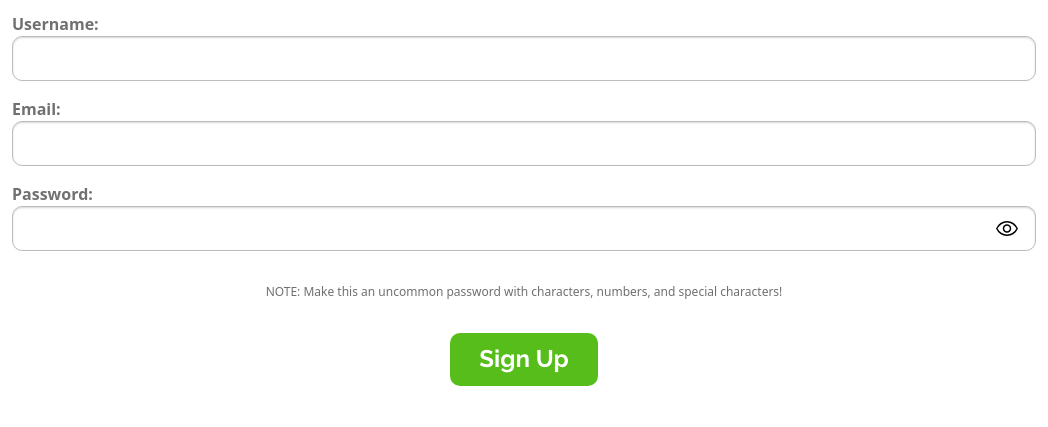
shows a warning for invalid password (too short) after user clicks away
The image size is (1048, 427).
Click the password field named "password" at (512, 228), box [29, 215, 995, 242]
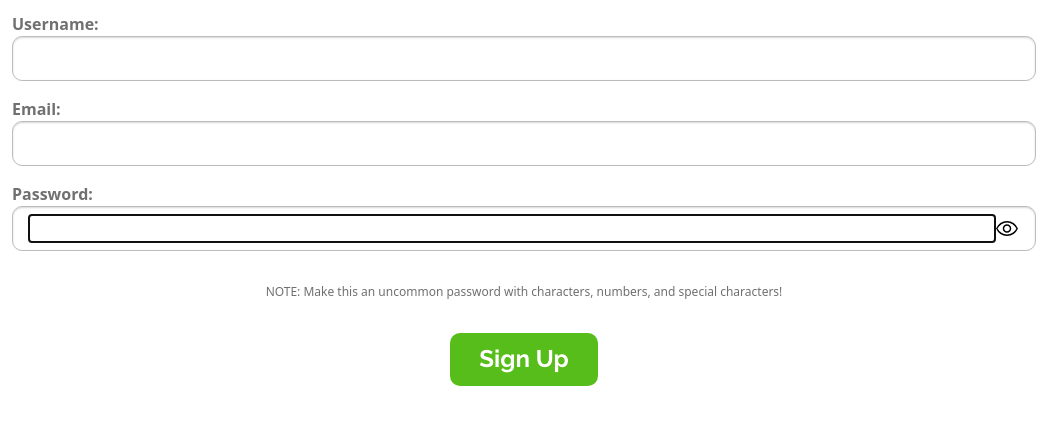
Type keys "abcdefg"
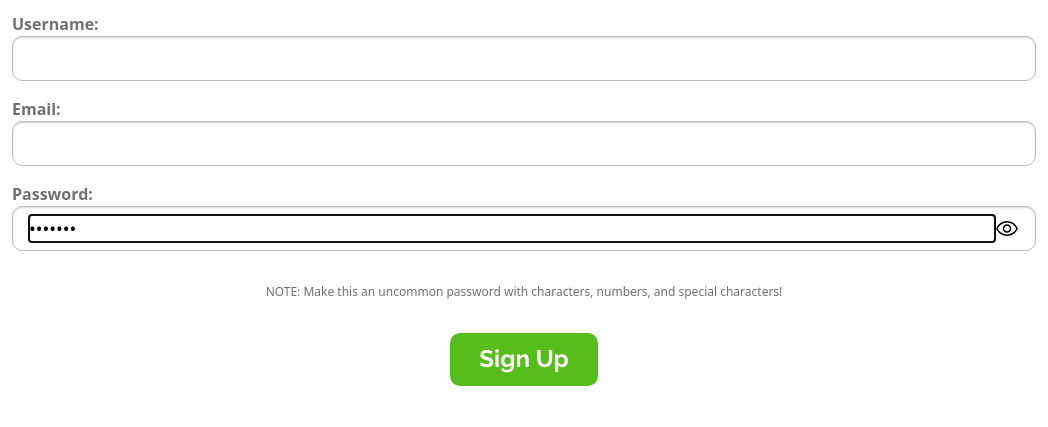
Click the button "Sign Up" at (524, 359), box [450, 333, 598, 386]
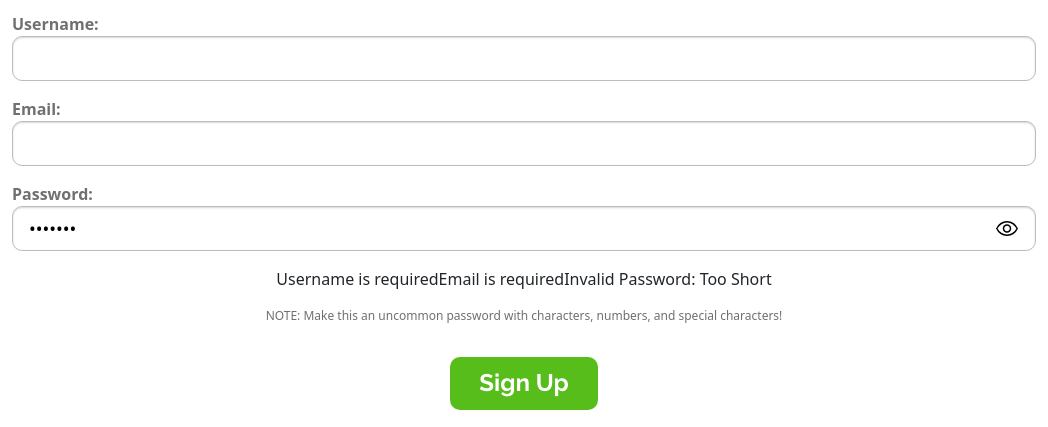
expect the text "Invalid Password: Too Short" is shown: met, box [564, 268, 772, 290]
